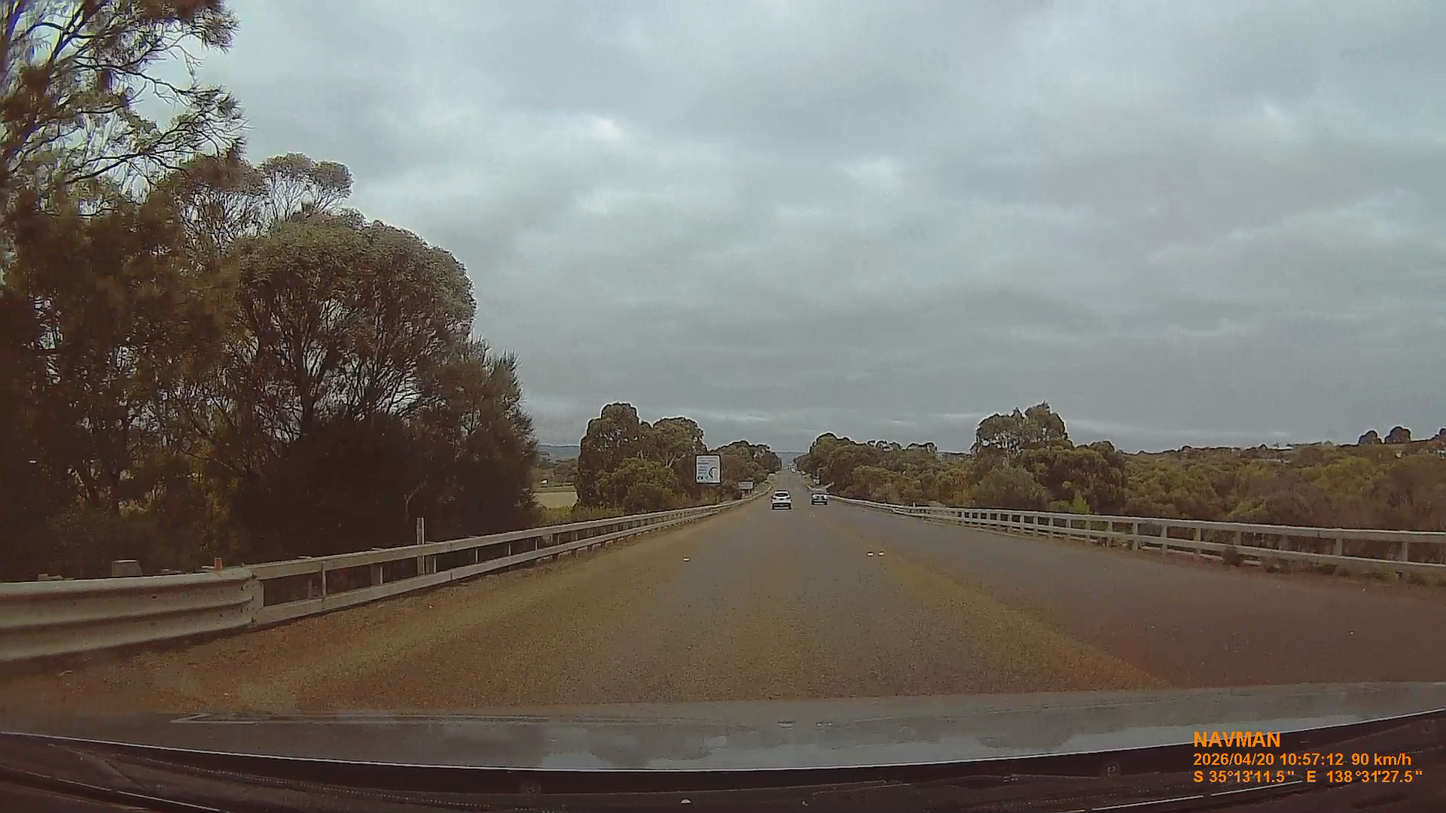road barriers: (0, 508, 721, 663), (867, 504, 1445, 574)
